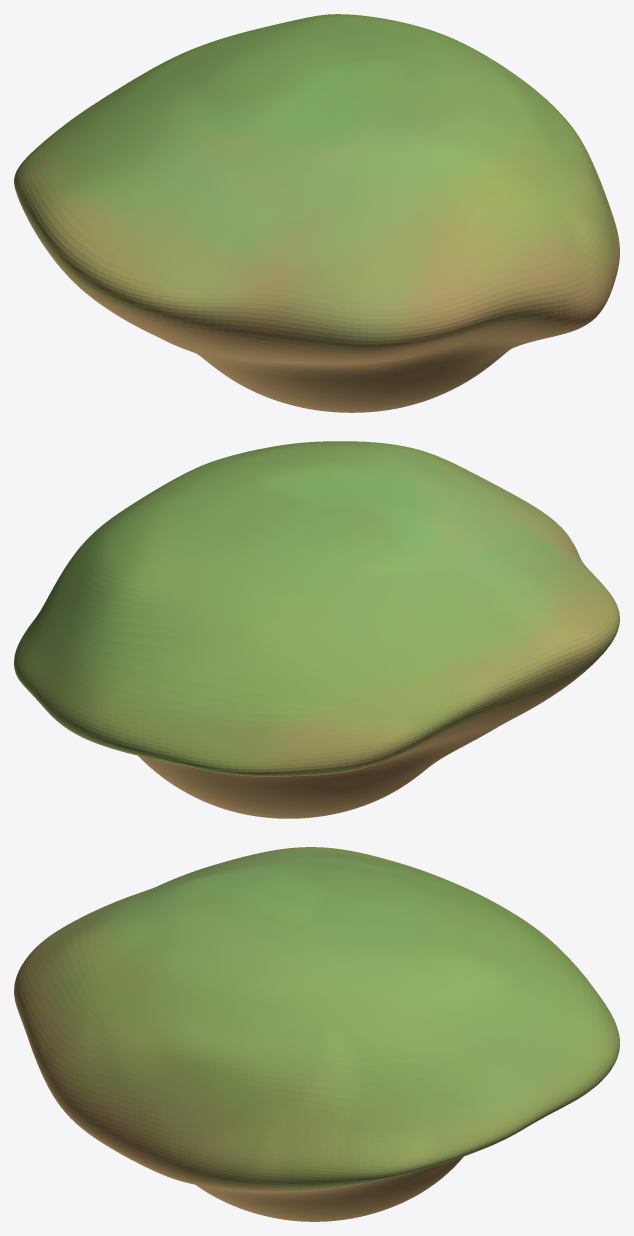
File: Demo Island.fbx
The picture shows the model from 3 angles, top to bottom: view 1: azimuth 30°, elevation 25°; view 2: azimuth 150°, elevation 25°; view 3: azimuth 270°, elevation 25°; orthographic projection. The views are drawn at different scales.
Visible parts, largest first — view 1: Cube; view 2: Cube; view 3: Cube.
Part boxes in pixels (box(x1,y1,x2,y2)): Cube: box(14, 14, 619, 412); Cube: box(14, 441, 619, 818); Cube: box(14, 847, 619, 1221).
Size of the model in its own units: 758 by 432 by 798.
